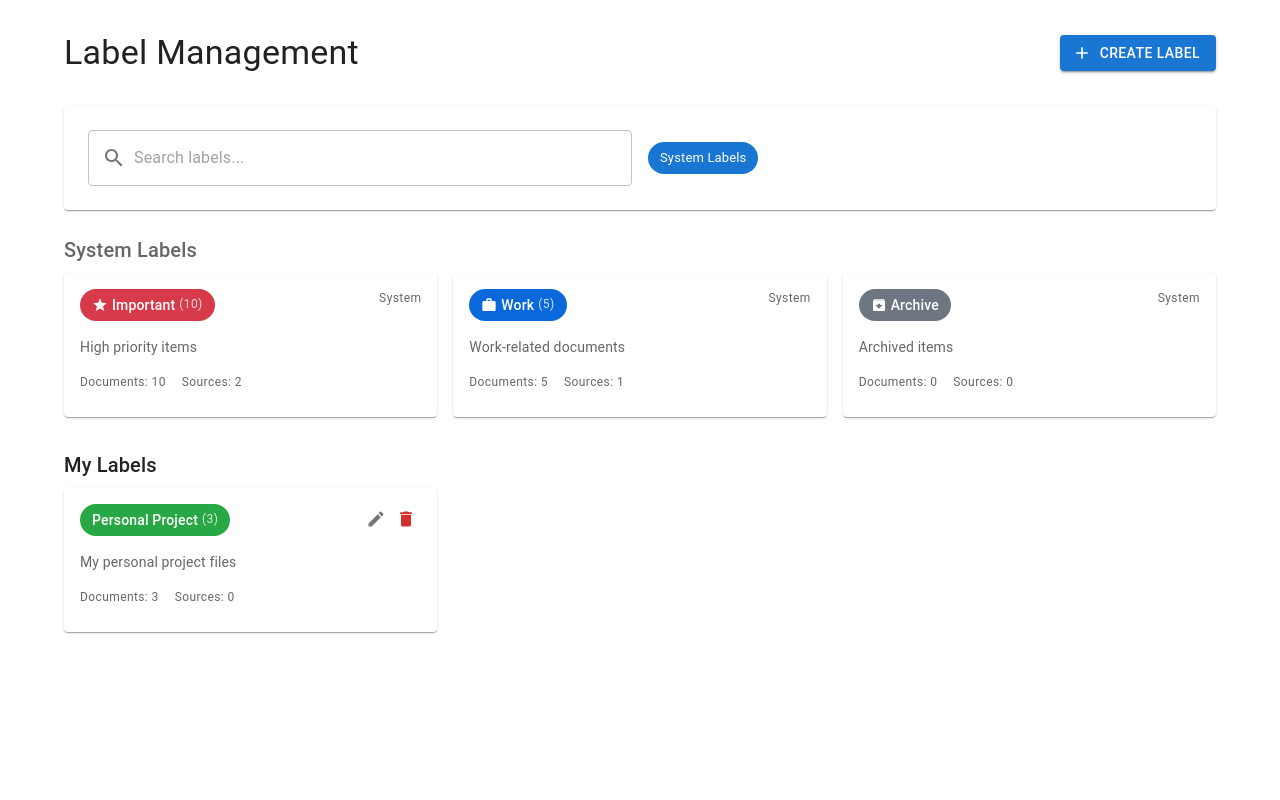
Scenario: LabelsPage Component › Error Handling in Operations › should show error when label deletion fails
This screenshot has width=1280, height=800.
Expected: the text "Personal Project" is shown, [92, 510, 198, 530]
Click the button named "delete".
click(406, 519)  # box [391, 504, 421, 534]
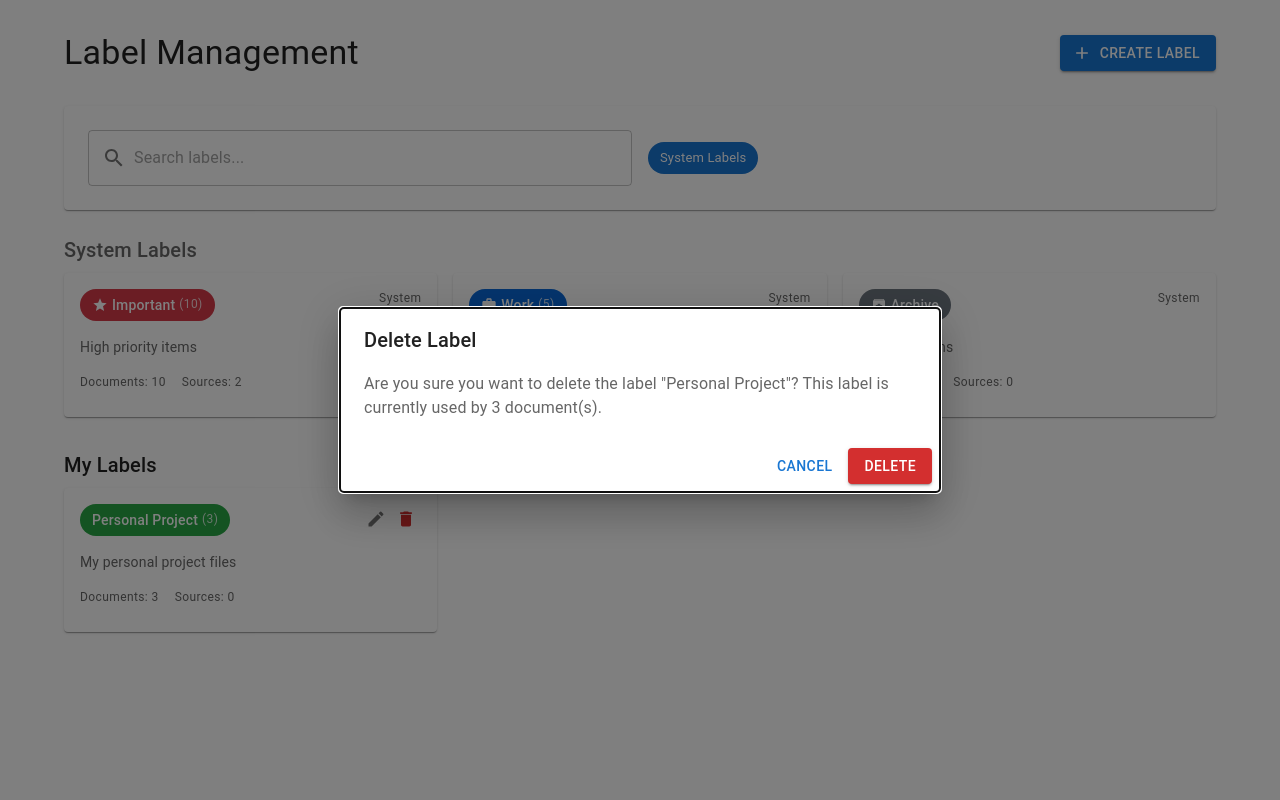
Click the button "Delete".
click(890, 466)  # box [848, 448, 932, 484]
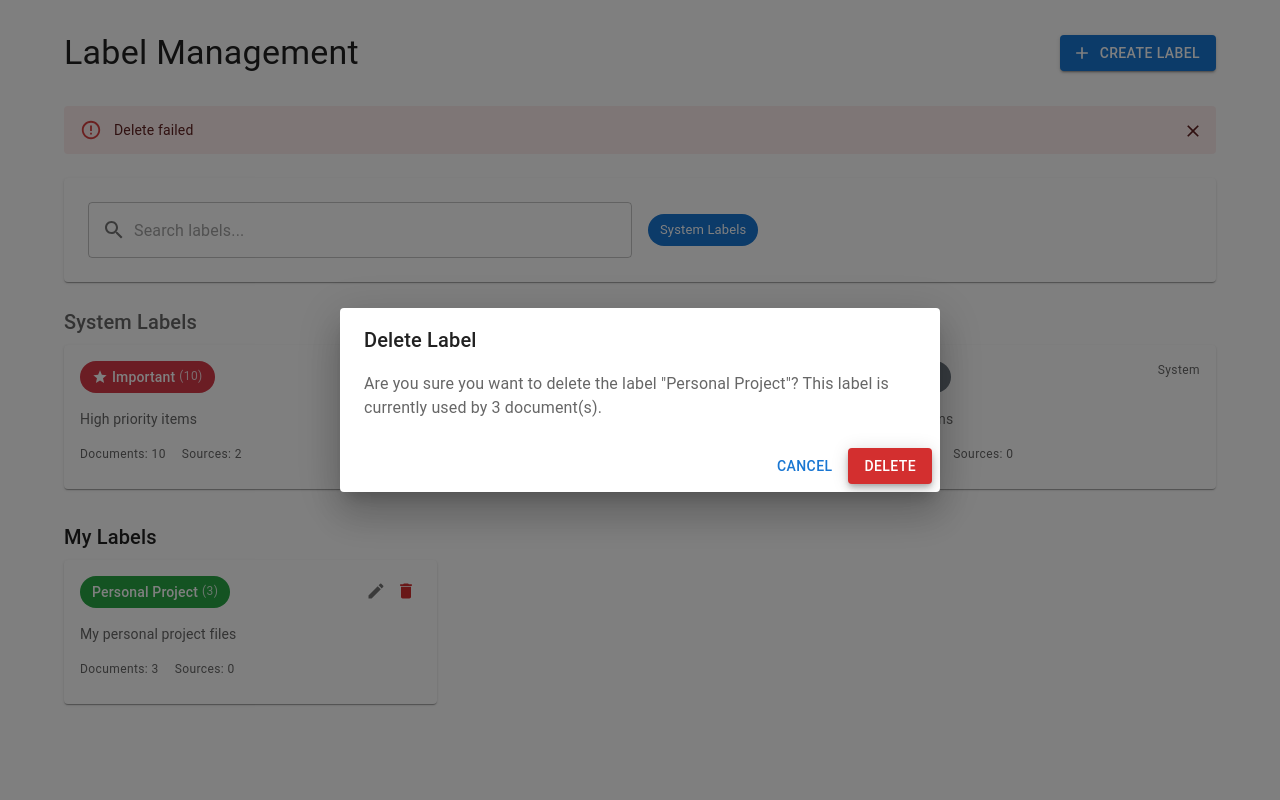
Expected: the text "Delete failed" is shown, [114, 122, 194, 138]
